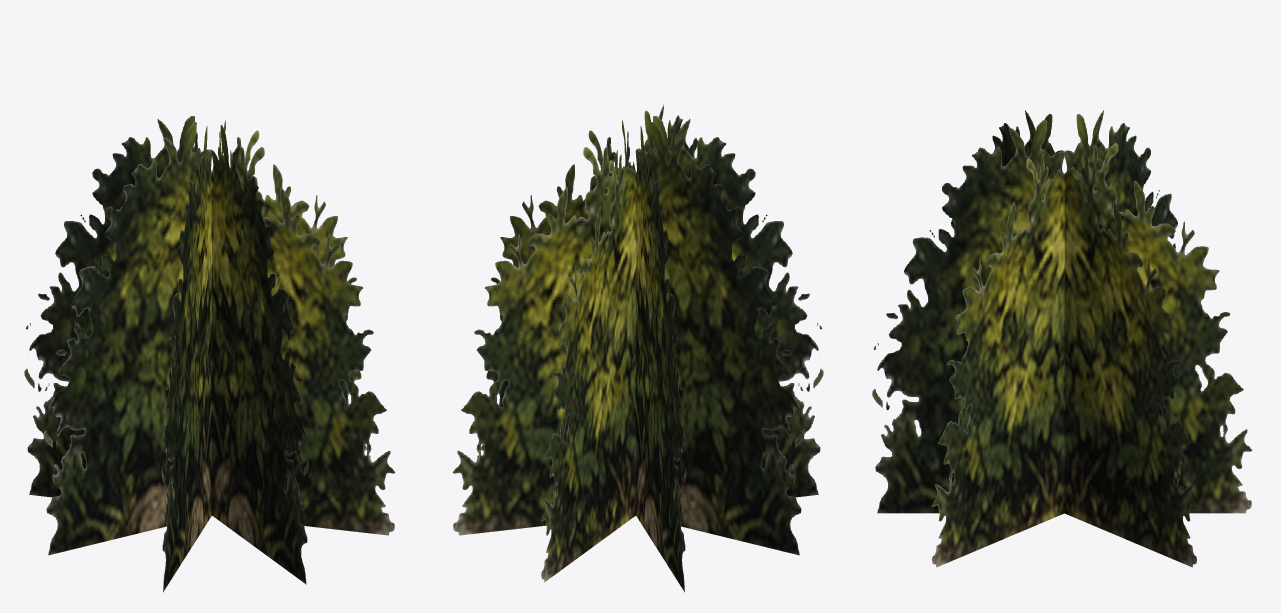
File: bush_1.fbx
3 renders of one model, left to right at view 1: azimuth 30°, elevation 25°; view 2: azimuth 150°, elevation 25°; view 3: azimuth 270°, elevation 25°, orthographic.
Parts seen in each view (by area): view 1: bush_1; view 2: bush_1; view 3: bush_1.
Boxes of the visible parts, x1,y1,x2,y2 form: bush_1: (24,116,395,592); bush_1: (452,104,823,592); bush_1: (872,110,1252,567).
Size of the model in its own units: 1.52 by 1.72 by 1.52.
